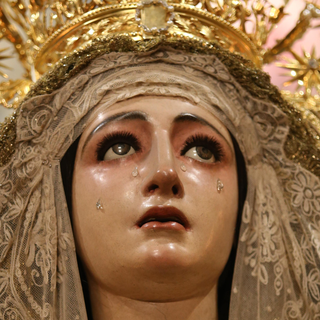eye: (97, 133, 142, 162), (181, 134, 223, 162)
